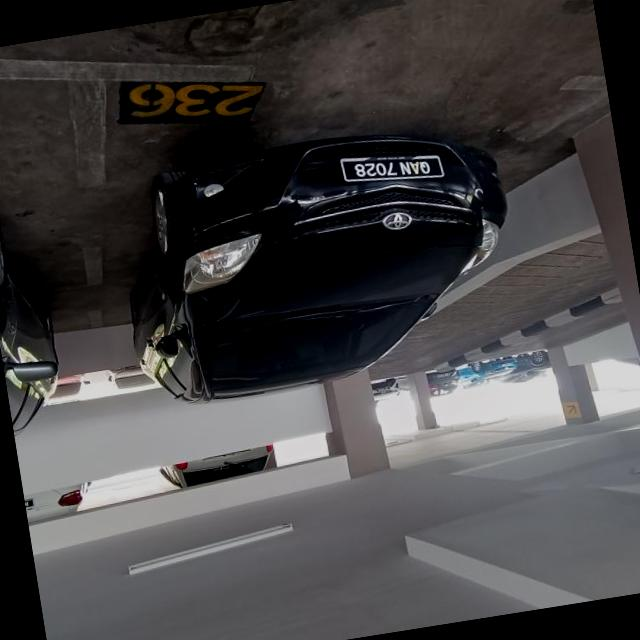ToyotaVios: (106, 112, 533, 417)
